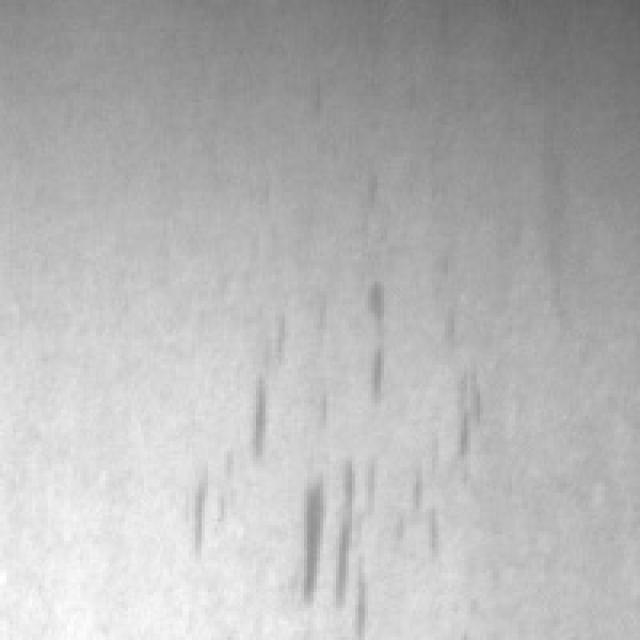inclusion: (292, 436, 391, 630), (179, 356, 275, 550), (352, 272, 406, 410)
